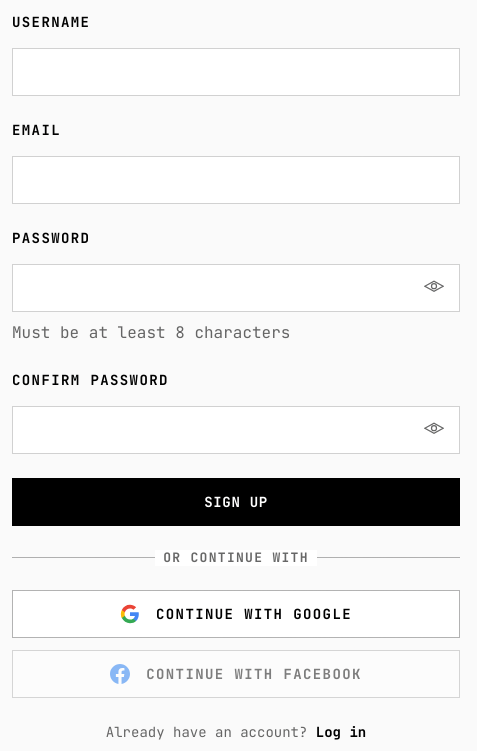
Integration: Authentication Flow › Signup flow › handles server-side validation errors
The image size is (477, 751).
Type "existinguser" into the field labelled "Username".
click(236, 72); type("existinguser")  # box [12,48,460,96]
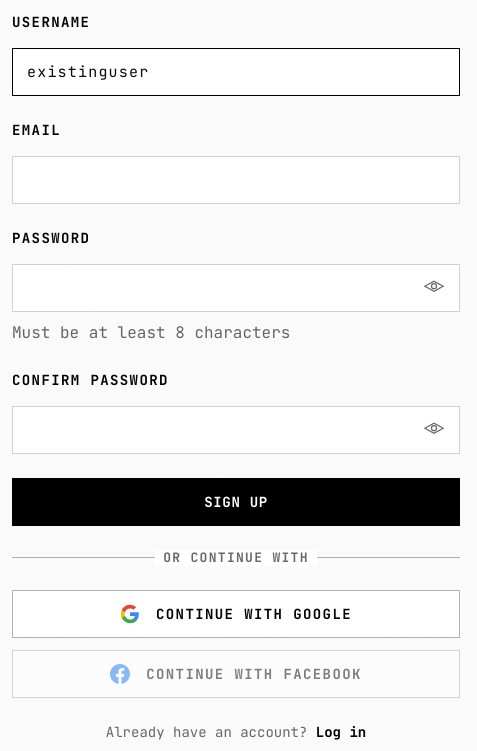
Type "existing@example.com" into the field labelled "Email".
click(236, 180); type("existing@example.com")  # box [12,156,460,204]
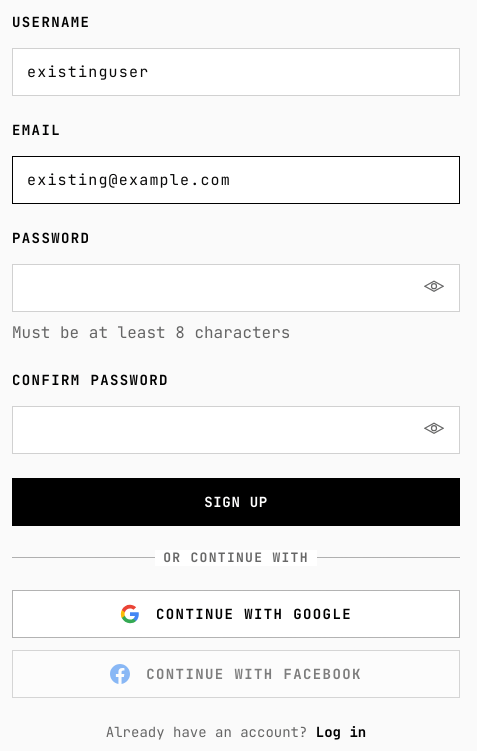
Type "password123" into the password field labelled "Password".
click(236, 288); type("password123")  # box [12,264,460,312]
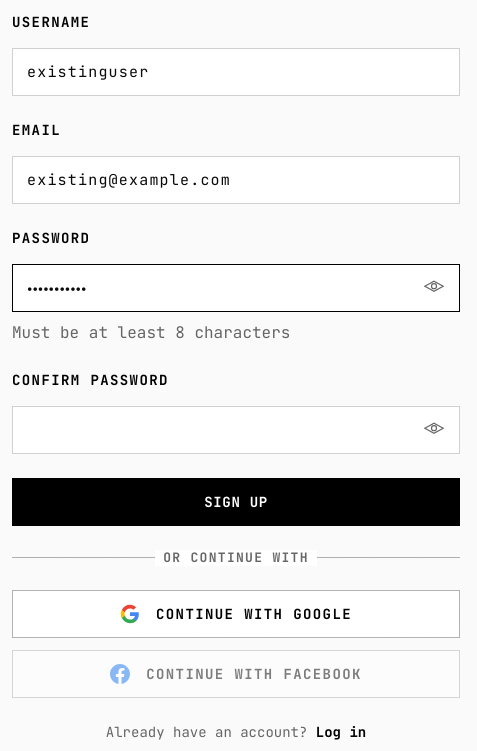
Type "password123" into the password field labelled "Confirm Password".
click(236, 430); type("password123")  # box [12,406,460,454]
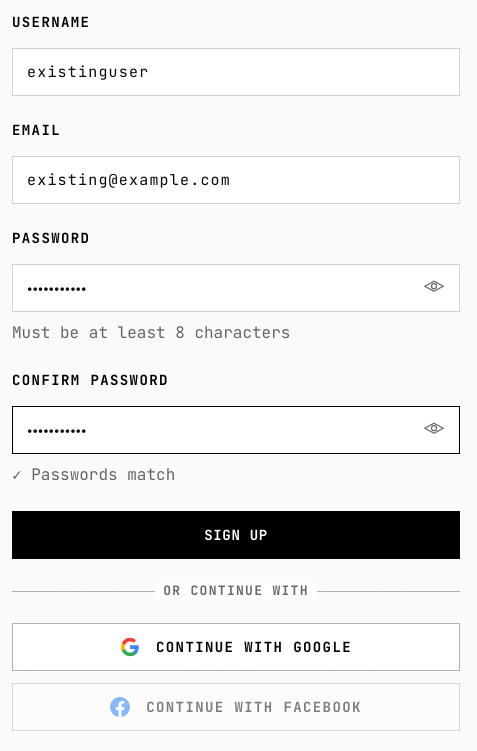
Click the button "Sign Up".
click(236, 535)  # box [12,511,460,559]
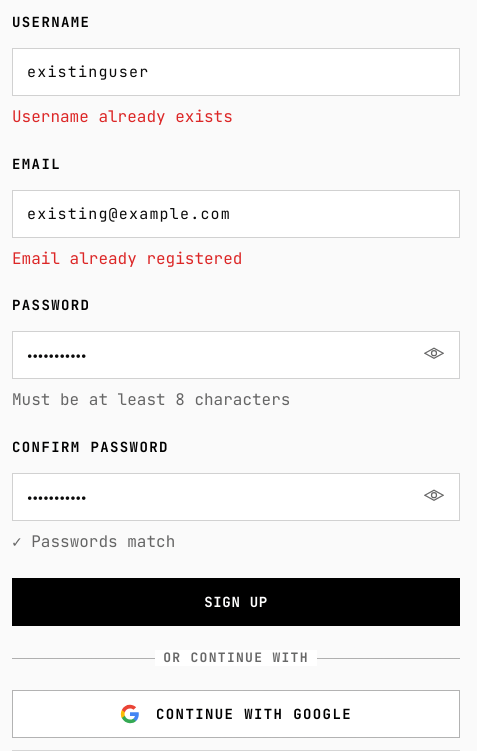
Expected: the field labelled "Username" is enabled, [12,48,460,96]
Expected: the text "Username already exists" is shown, [12,106,233,127]
Expected: the text "Email already registered" is shown, [12,248,242,269]
